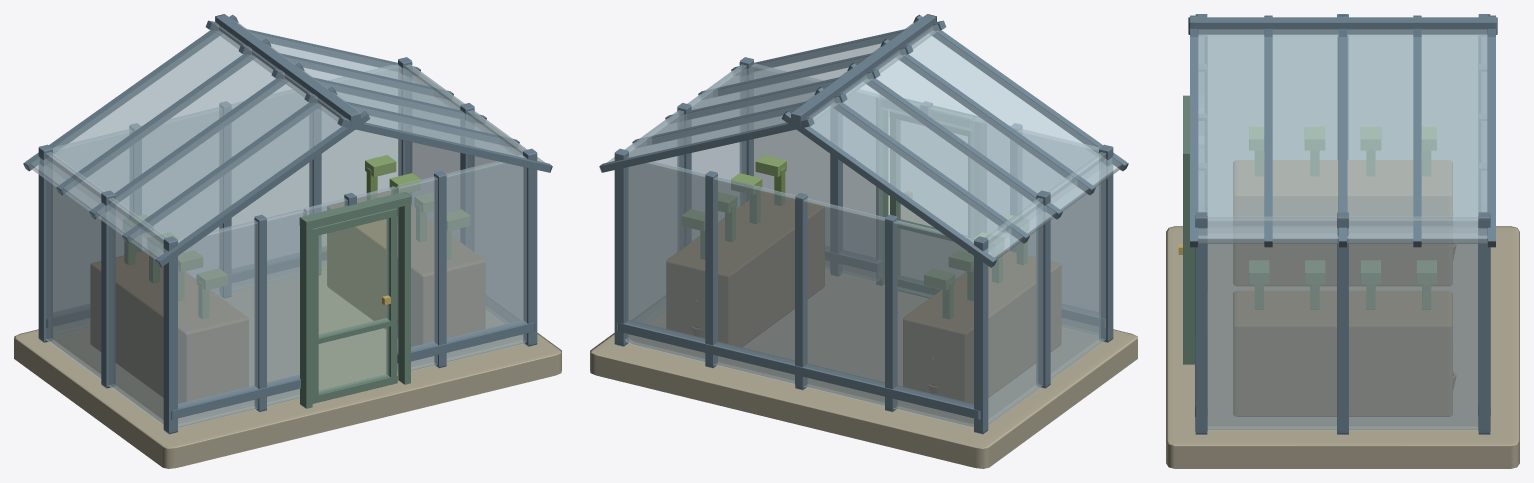
Rendered from greenhouse-2.glb.
The picture shows the model from 3 angles, left to right: view 1: azimuth 30°, elevation 25°; view 2: azimuth 150°, elevation 25°; view 3: azimuth 270°, elevation 25°; orthographic projection. The views are drawn at different scales.
Visible parts, largest first — view 1: greenhouse-2-0, door-hinge, vegetable-crops; view 2: greenhouse-2-0, door-hinge, vegetable-crops; view 3: greenhouse-2-0, vegetable-crops.
Boxes of the visible parts, <box> form: greenhouse-2-0: <box>14,14,561,468</box>; door-hinge: <box>312,208,397,403</box>; vegetable-crops: <box>124,155,469,319</box>; greenhouse-2-0: <box>590,14,1137,468</box>; door-hinge: <box>889,112,970,294</box>; vegetable-crops: <box>682,155,1027,319</box>; greenhouse-2-0: <box>1166,14,1519,468</box>; vegetable-crops: <box>1249,127,1436,309</box>.
Size of the model in its own units: 2.8 by 2.01 by 1.9.
